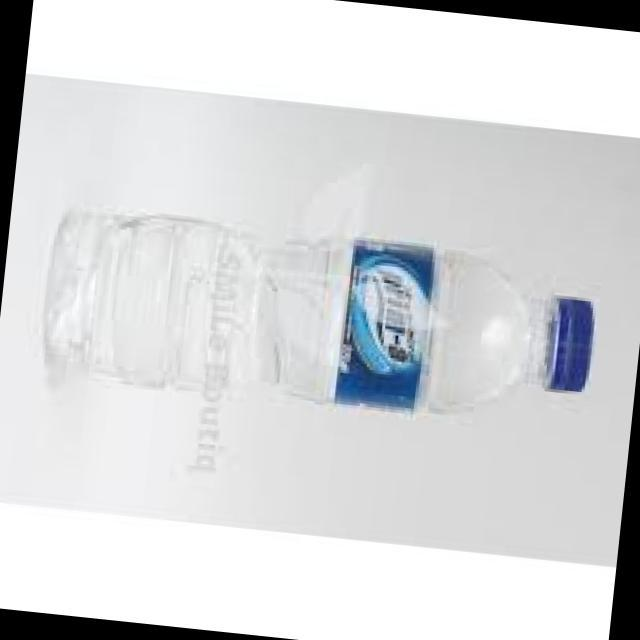good: (21, 204, 612, 456)
